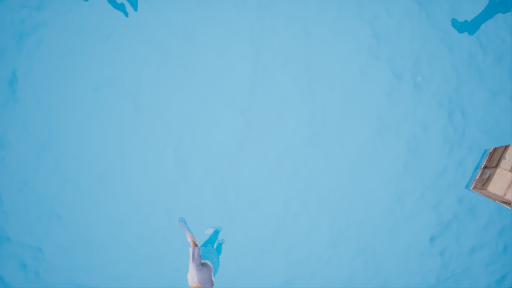person: (179, 213, 229, 288)
